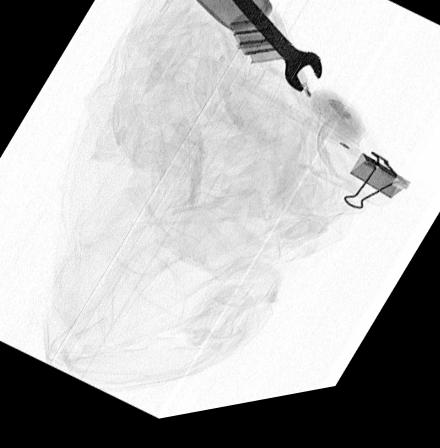Wrench: (223, 0, 323, 102)
